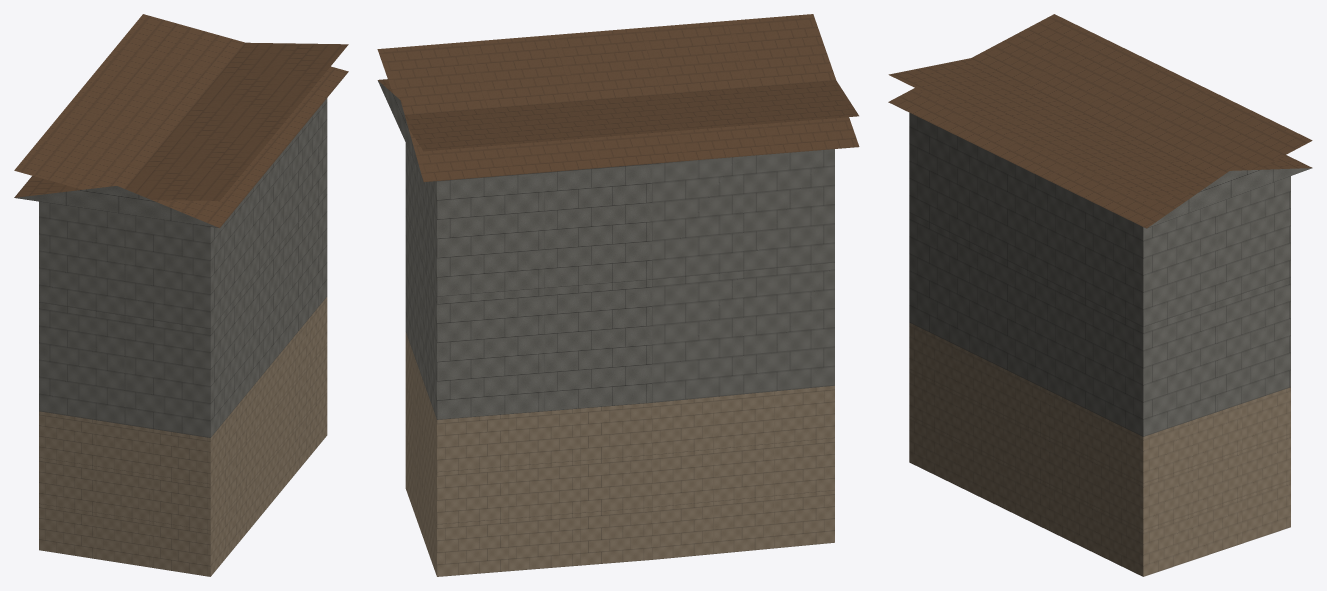
Rendered from bld_c38_-13_534.gltf.
The picture shows the model from 3 angles, left to right: view 1: azimuth 30°, elevation 25°; view 2: azimuth 150°, elevation 25°; view 3: azimuth 270°, elevation 25°; orthographic projection. The views are drawn at different scales.
Parts seen in each view (by area): view 1: bld_c38_-13_534; view 2: bld_c38_-13_534; view 3: bld_c38_-13_534.
Part boxes in pixels (x1,y1,x2,y2): bld_c38_-13_534: [14, 14, 348, 576]; bld_c38_-13_534: [377, 14, 859, 576]; bld_c38_-13_534: [888, 14, 1312, 576].
Bounding box in the file's own units: 14.62 × 14.1 × 14.02.
Materials: 4 (4 with a texture image).
